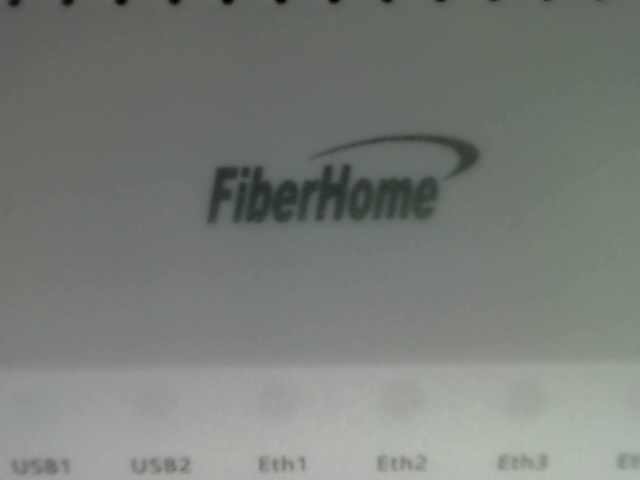AI_FiberHome: (192, 118, 505, 253)
